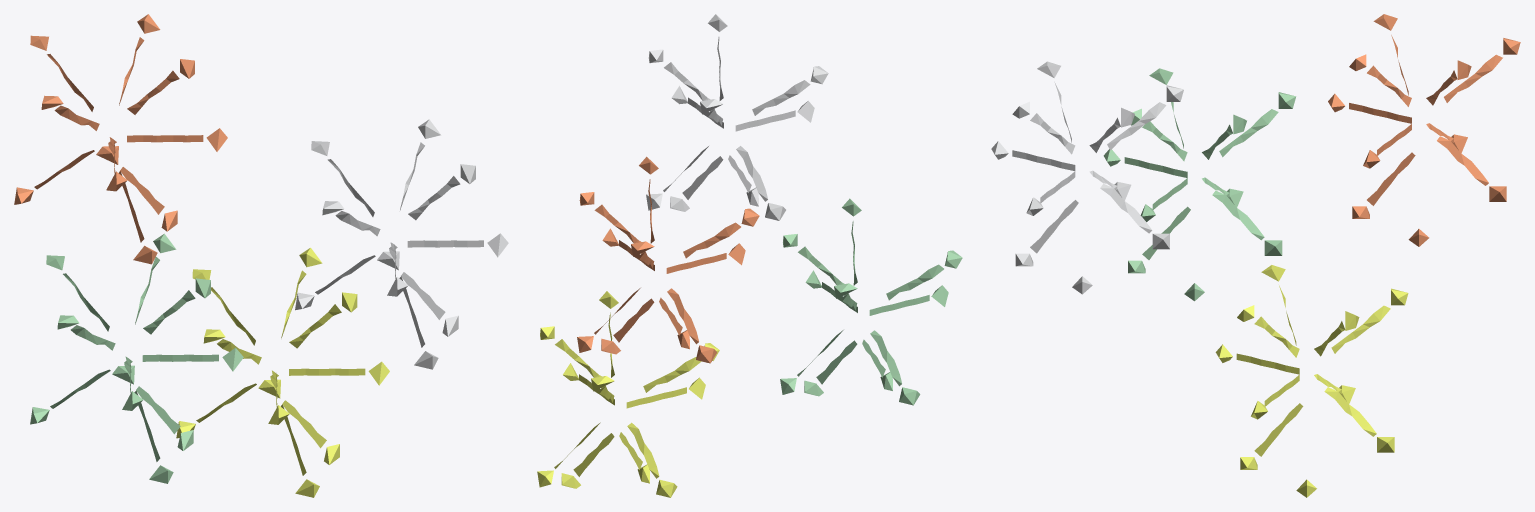
Rendered from gfx_199.obj.
3 renders of one model, left to right at view 1: azimuth 30°, elevation 25°; view 2: azimuth 150°, elevation 25°; view 3: azimuth 270°, elevation 25°, orthographic. The views are drawn at different scales.
Size of the model in its own units: 0.9297 by 0.9453 by 1.18.
